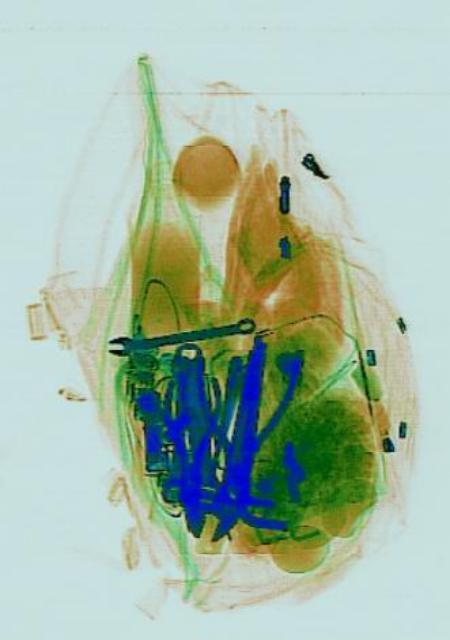Pliers: (177, 337, 295, 495)
Wrench: (158, 335, 242, 547), (105, 312, 252, 354)
